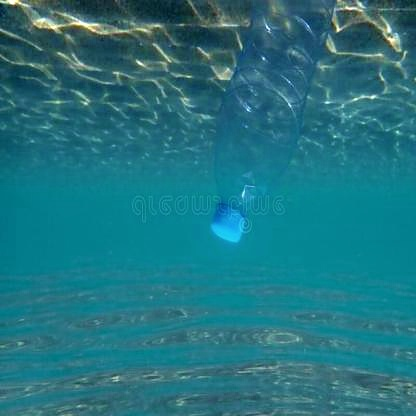pbottle: (200, 2, 344, 252)
